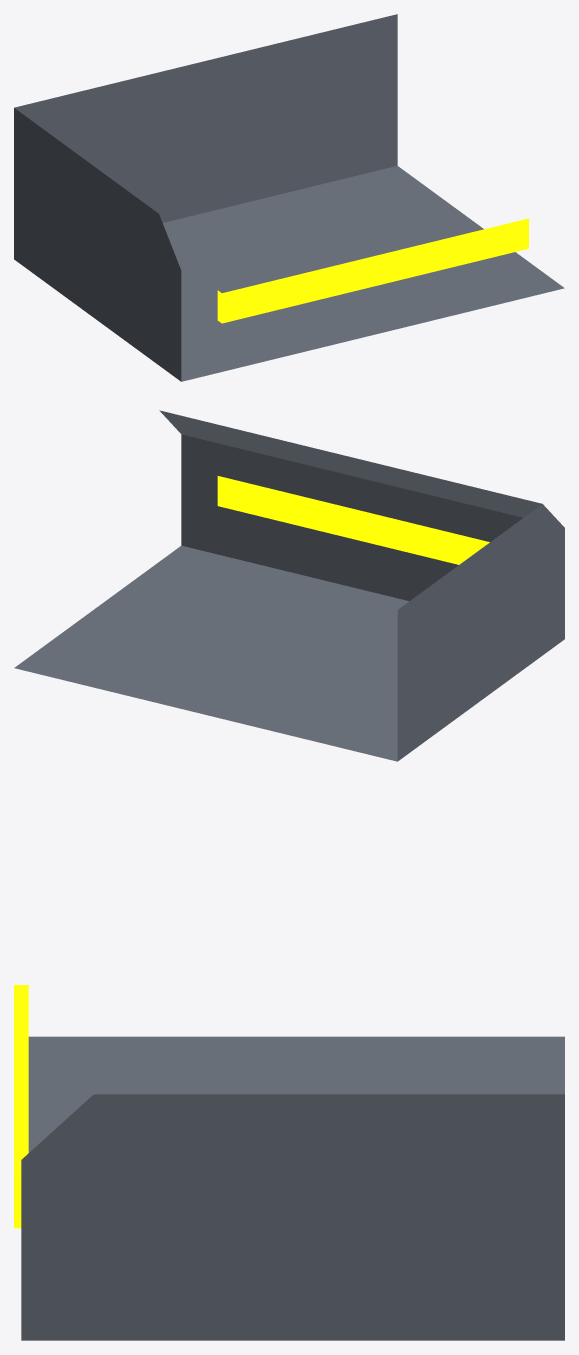
The model's file is ext_curb_segment_397mm.glb.
3 renders of one model, top to bottom at view 1: azimuth 30°, elevation 25°; view 2: azimuth 150°, elevation 25°; view 3: azimuth 270°, elevation 25°, orthographic. The views are drawn at different scales.
Visible parts, largest first — view 1: Curb, Reflector_Strip; view 2: Curb, Reflector_Strip; view 3: Curb, Reflector_Strip.
Part boxes in pixels (box(x1,y1,x2,y2)): Curb: box(14, 14, 564, 381); Reflector_Strip: box(217, 218, 528, 323); Curb: box(14, 410, 564, 761); Reflector_Strip: box(217, 476, 489, 564); Curb: box(21, 1036, 564, 1340); Reflector_Strip: box(14, 985, 28, 1228).
Bounding box in the file's own units: 0.397 × 0.15 × 0.304.
